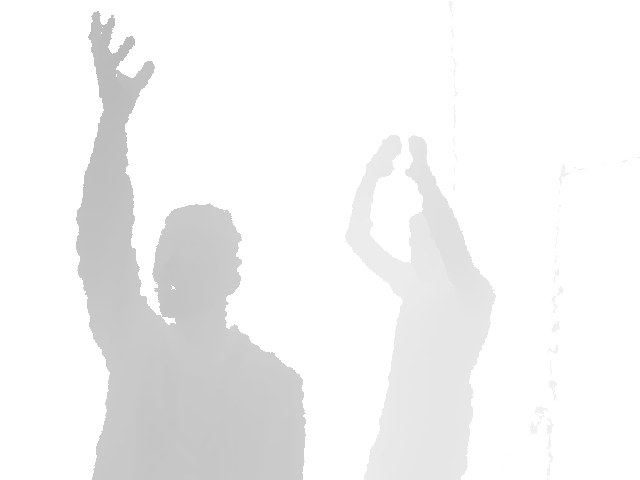hand: (89, 11, 155, 122), (366, 136, 403, 180), (402, 136, 431, 183)
head: (153, 203, 242, 327), (407, 209, 452, 274)
person: (73, 11, 309, 480), (344, 135, 496, 480)
